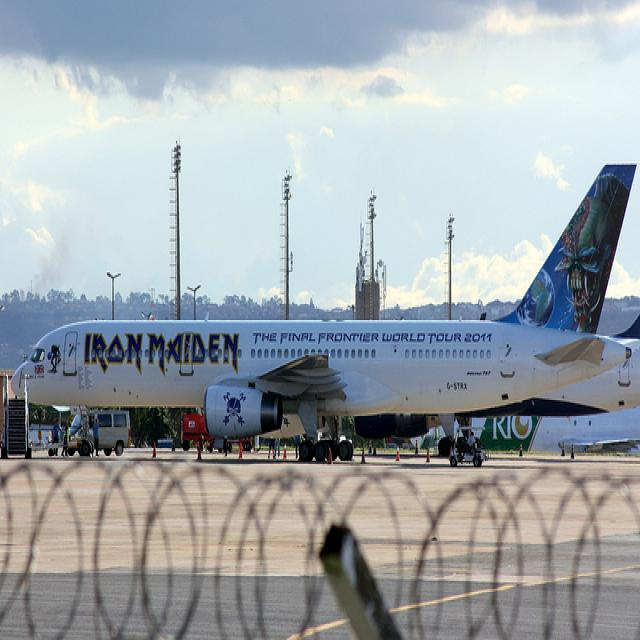Vehicle: (63, 409, 133, 457), (182, 414, 225, 453)
